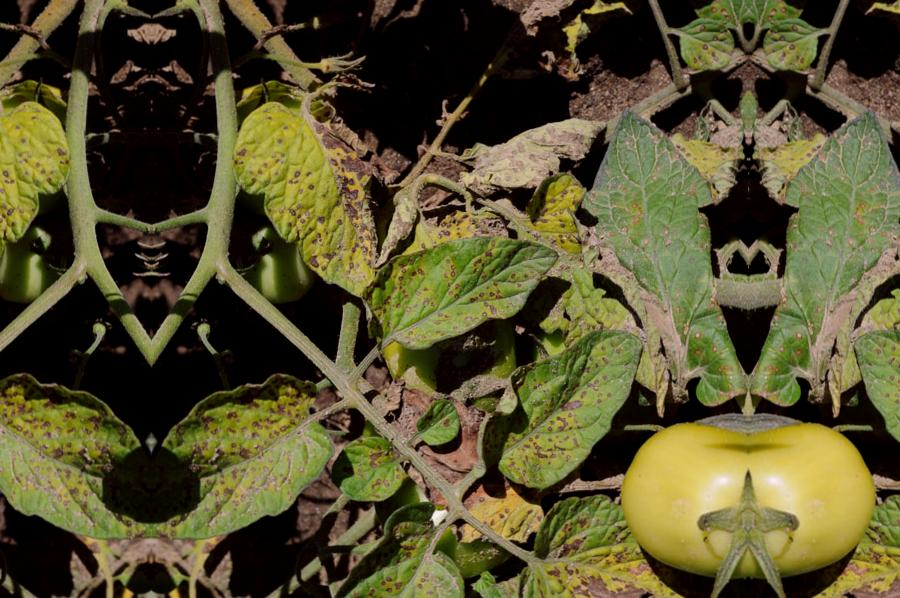Tomato Septoria leaf spot: (227, 96, 391, 297), (153, 370, 334, 552), (361, 232, 560, 364), (485, 316, 632, 488), (495, 495, 695, 598), (321, 537, 464, 598)
